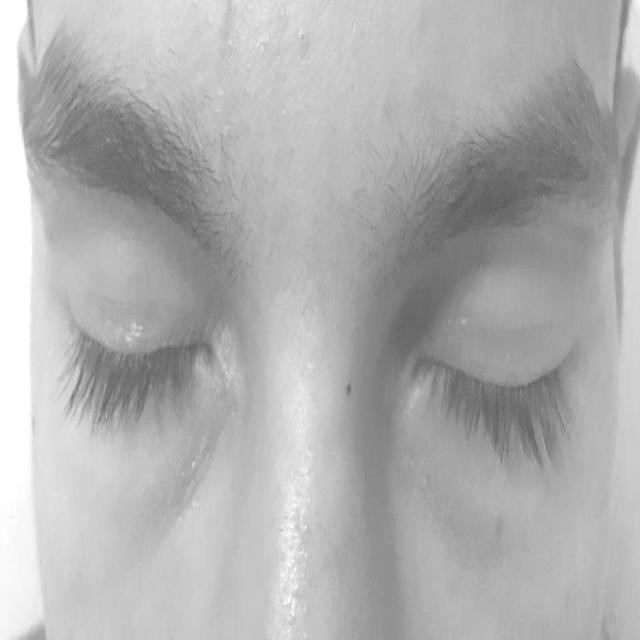real: (62, 151, 612, 506)
